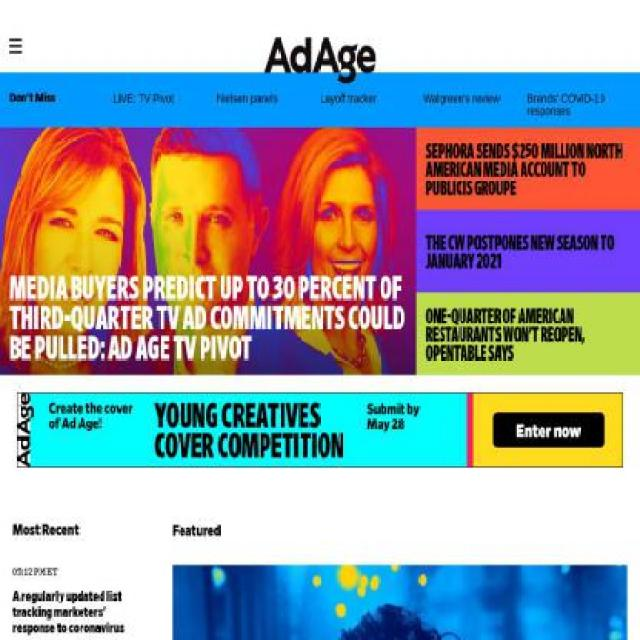button: (0, 274, 417, 364), (425, 143, 630, 200), (425, 308, 630, 363), (425, 234, 630, 272), (264, 37, 376, 85)
